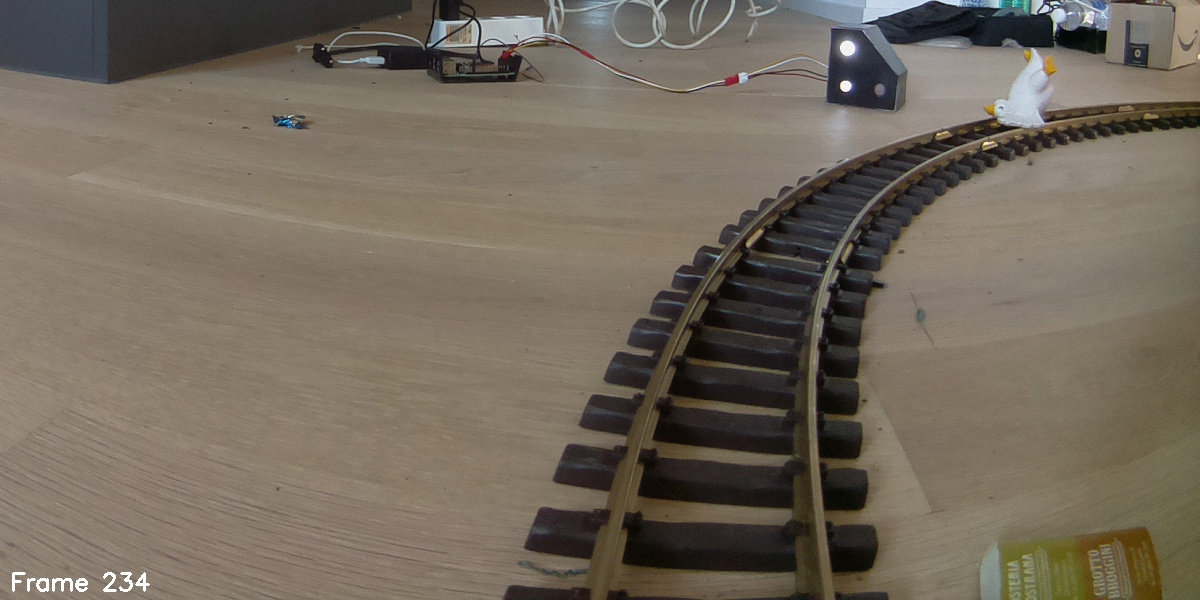Ente: (980, 47, 1061, 134)
Fahrt: (828, 23, 907, 109)
